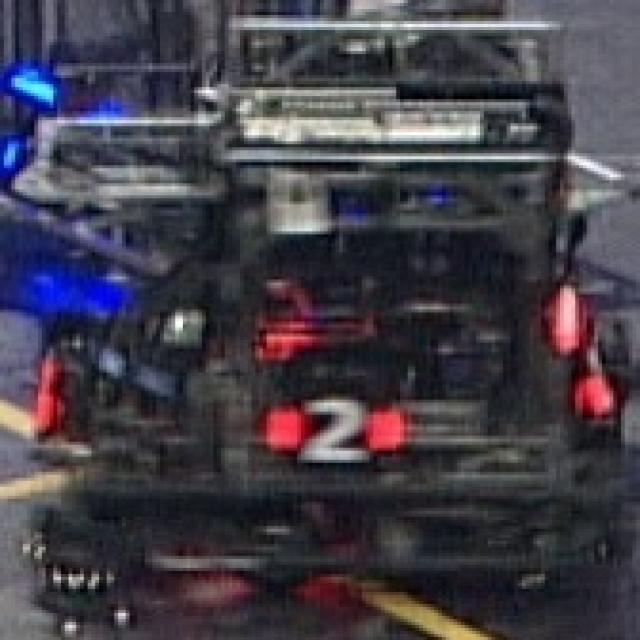R2: (251, 394, 404, 466)
